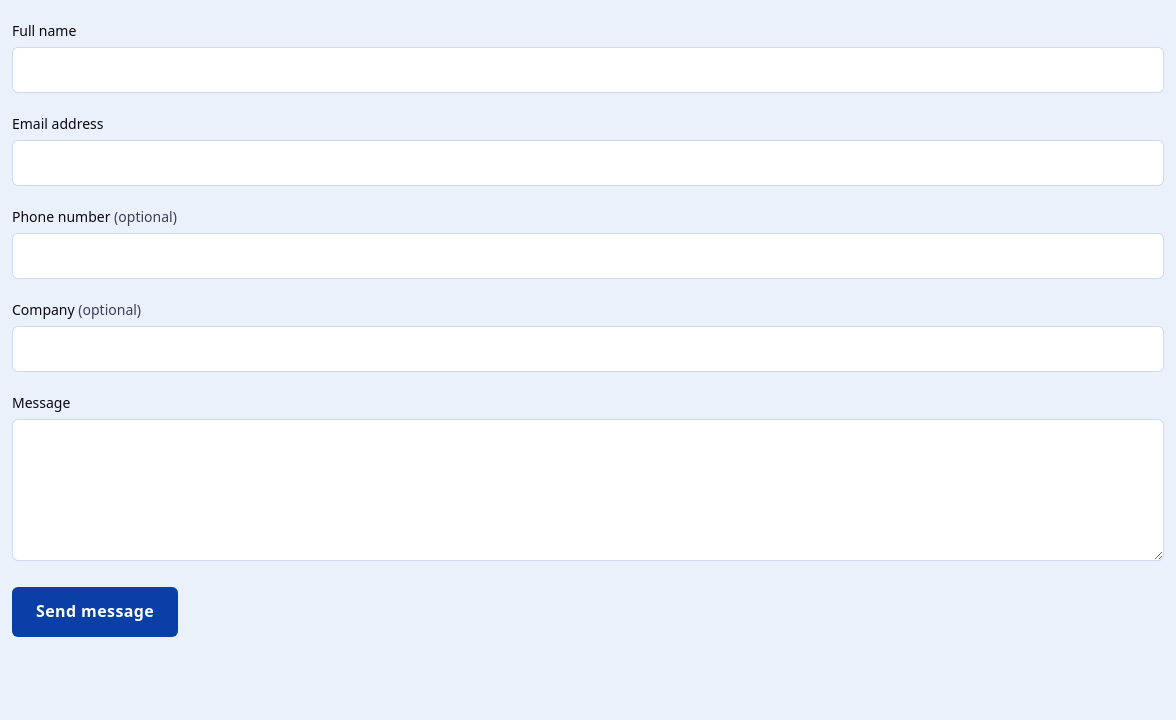
ContactForm › blocks double submission by disabling the button while submitting
Step 1. Type "Jane Doe" into the field labelled "Full name" → [588, 70], box 12,47 -> 1164,93
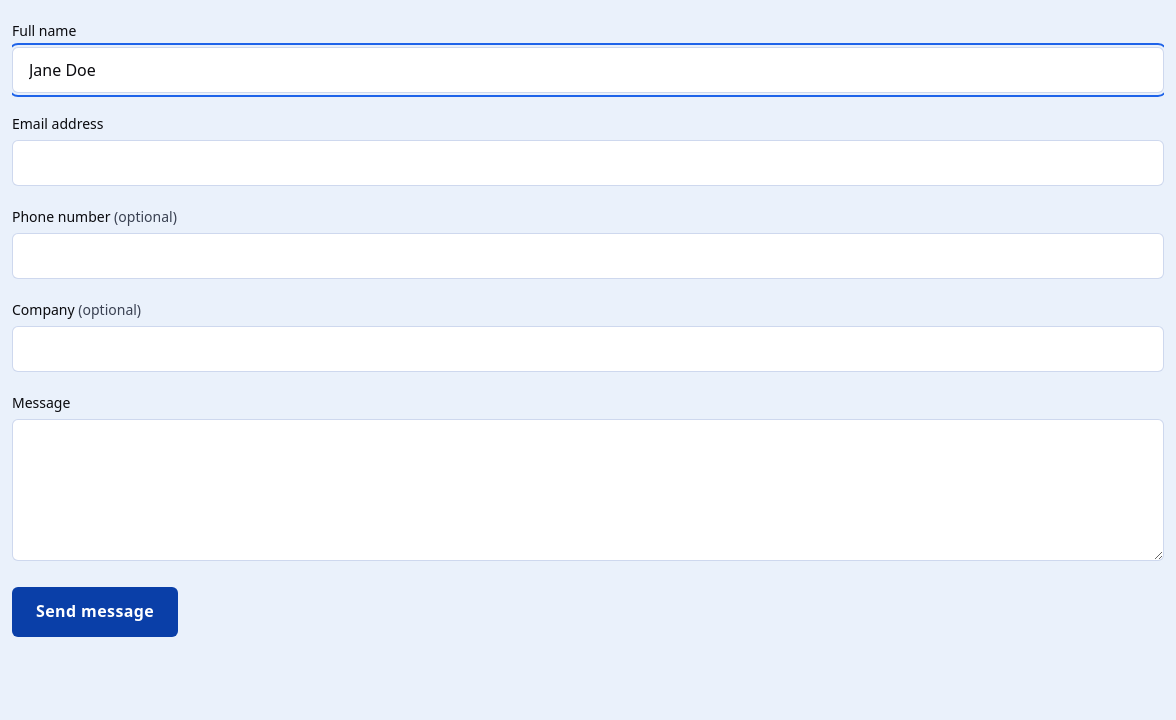
Step 2. Type "jane@example.com" into the field labelled "Email address" → [588, 163], box 12,140 -> 1164,186
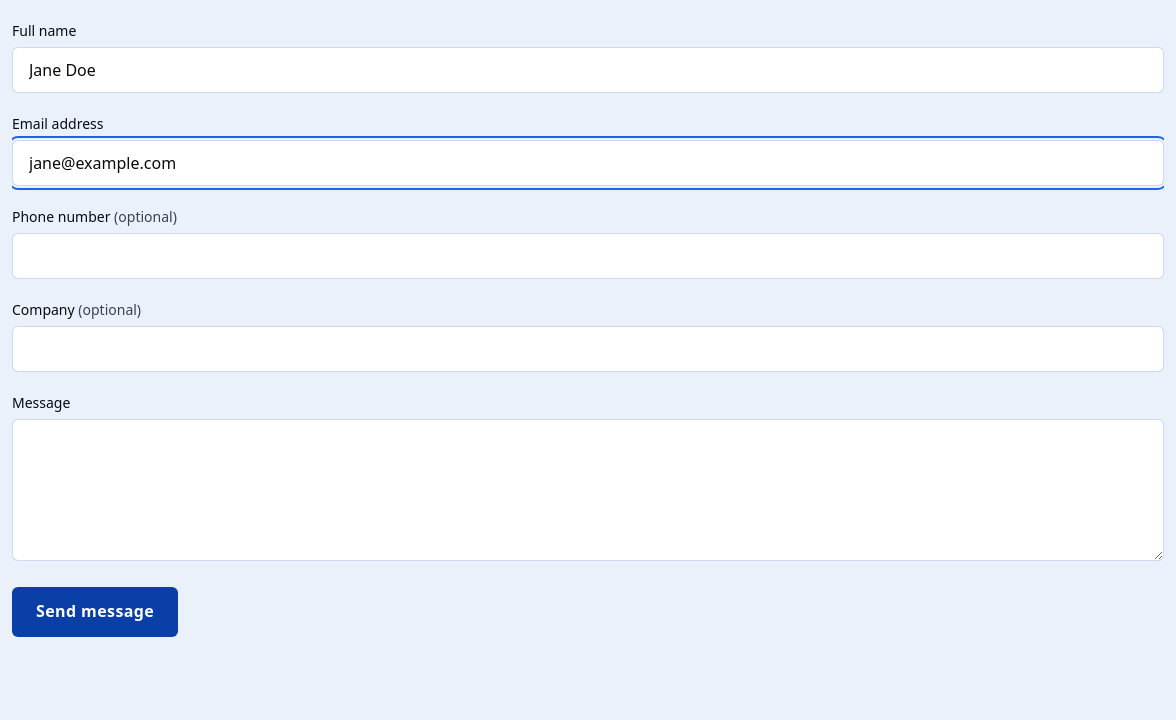
Step 3. Type "We would like a quote for deep groove ball bearings." into the text box labelled "Message" → [588, 490], box 12,419 -> 1164,561
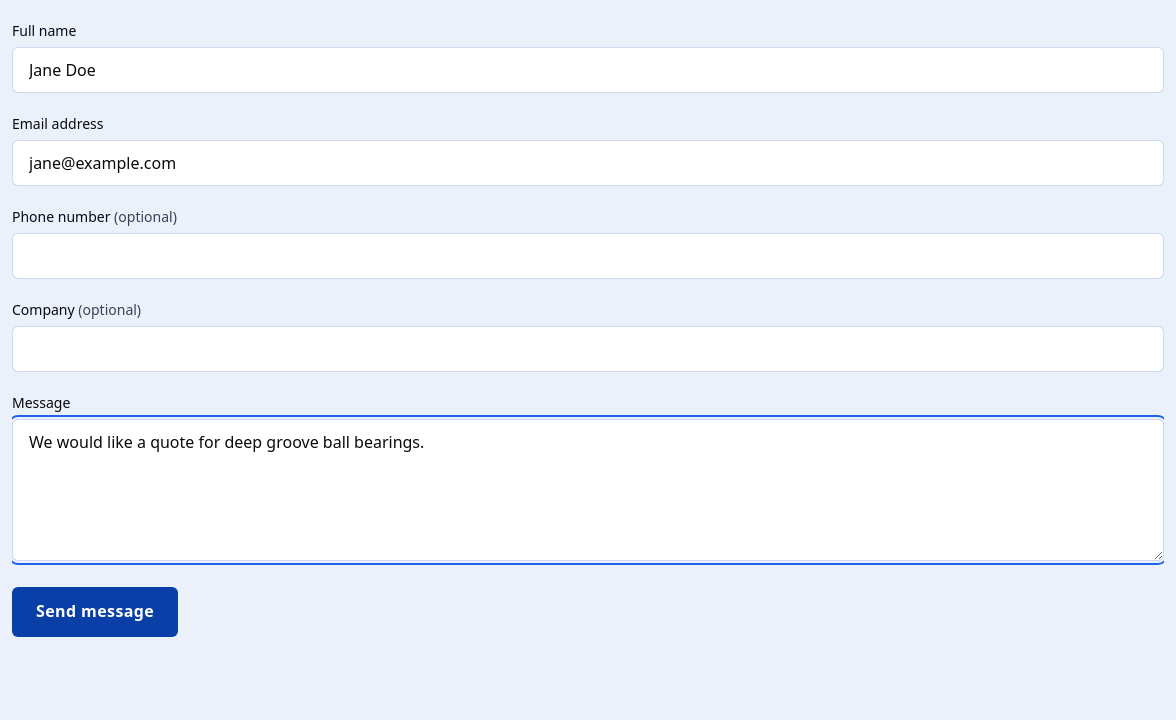
Step 4. Click the button "Send message" → [95, 612], box 12,587 -> 178,637
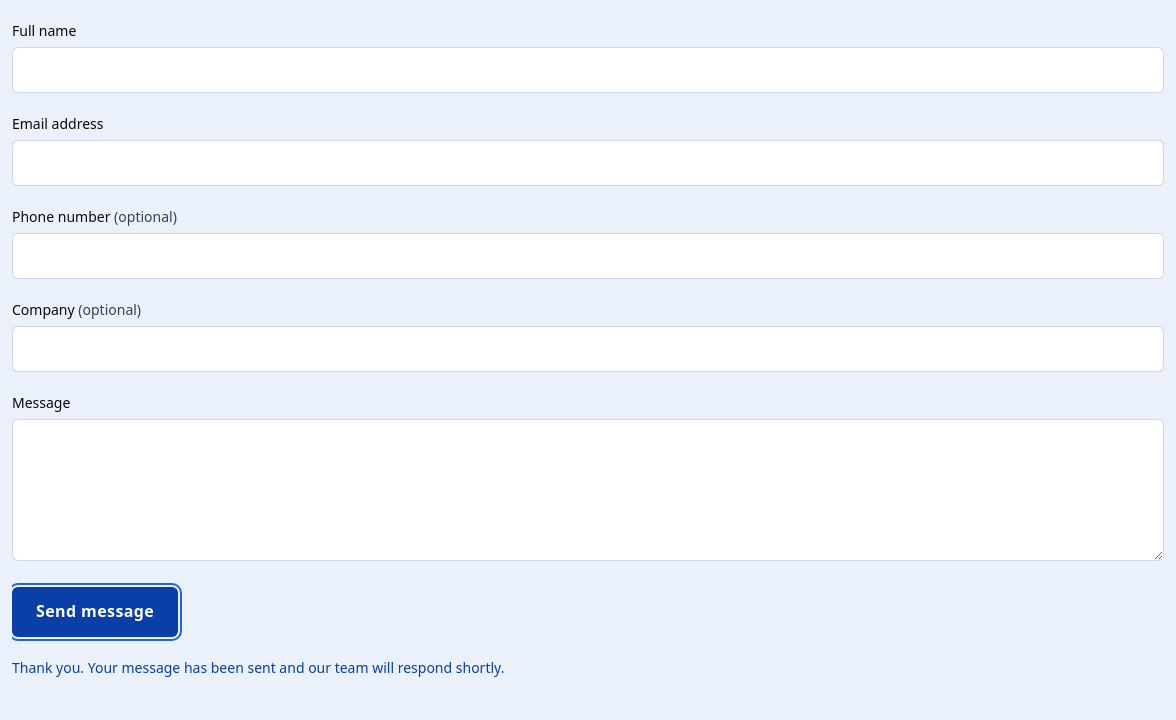
Now the text "Thank you. Your message has been sent and our team will respond shortly." is shown, box 12,658 -> 504,677
